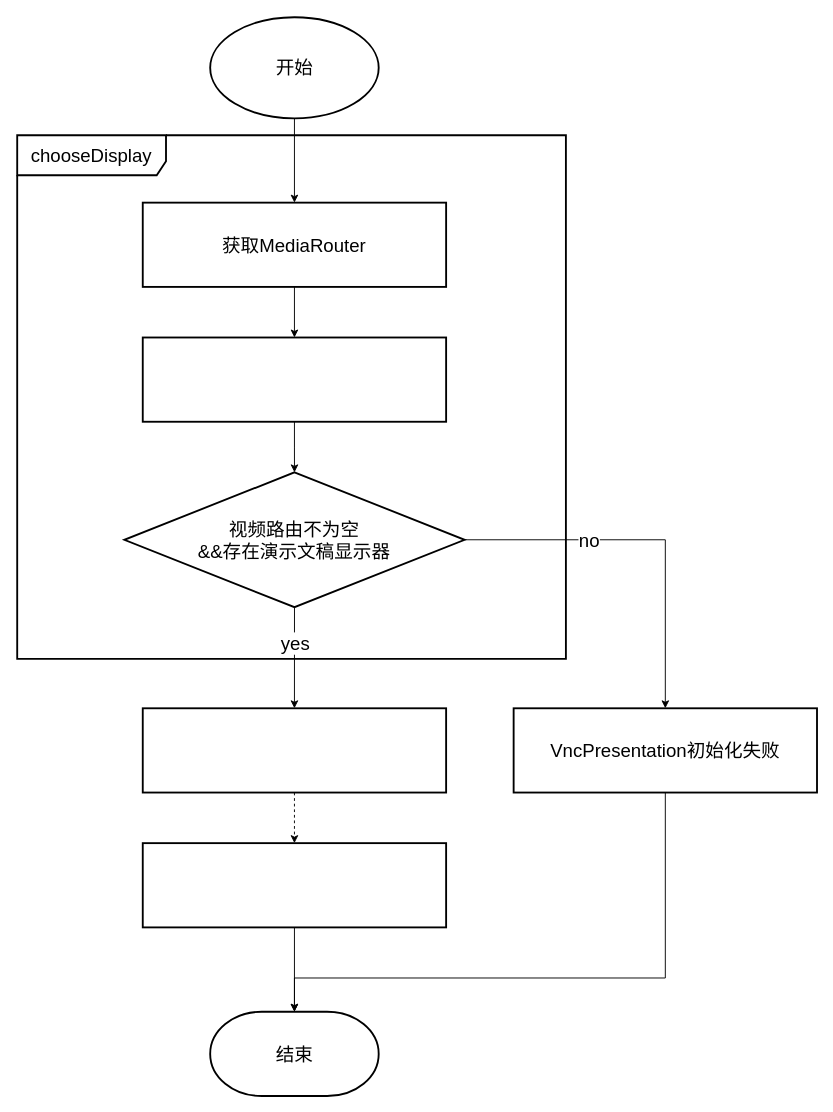
Image size: 833x1112. Some labels were removed from this diagram. The centre of each missing label's shape, as x and y in pixels:
"VncPresentation.show()" goes at [294,885].
"使用演示文稿显示器初始化VncPresentation" goes at [294,750].
"获取视频路由" goes at [294,379].
